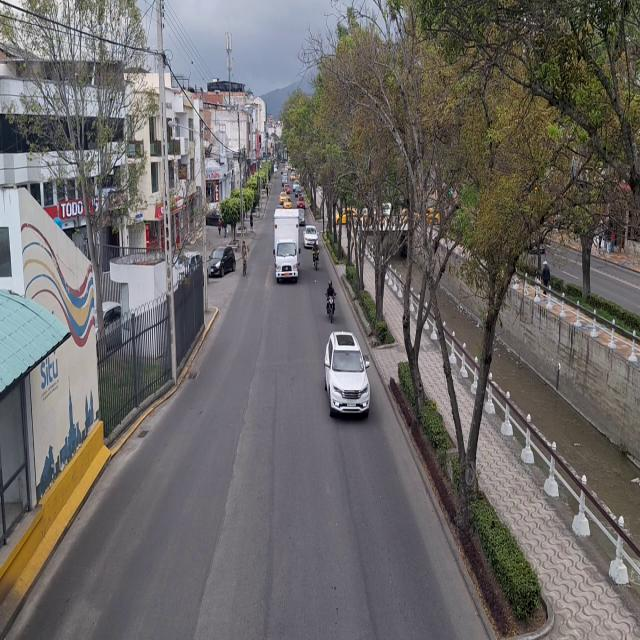MOTORCYCLE: (328, 295, 336, 325)
TRUCK: (275, 212, 298, 280)
